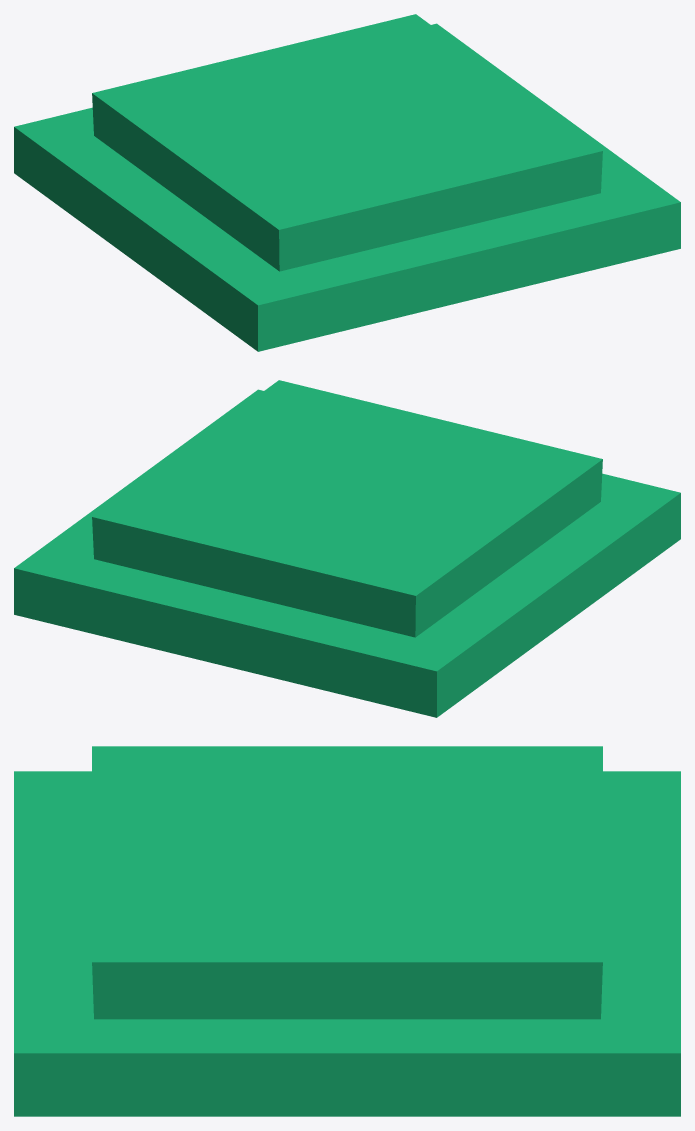
The model's file is startModel.fbx.
The picture shows the model from 3 angles, top to bottom: view 1: azimuth 30°, elevation 25°; view 2: azimuth 150°, elevation 25°; view 3: azimuth 270°, elevation 25°; orthographic projection. The views are drawn at different scales.
Parts seen in each view (by area): view 1: startModel; view 2: startModel; view 3: startModel.
Boxes of the visible parts, x1,y1,x2,y2 form: startModel: (14, 14, 680, 351); startModel: (14, 380, 680, 717); startModel: (14, 746, 680, 1116).
Bounding box in the file's own units: 100 × 20.1 × 100.
